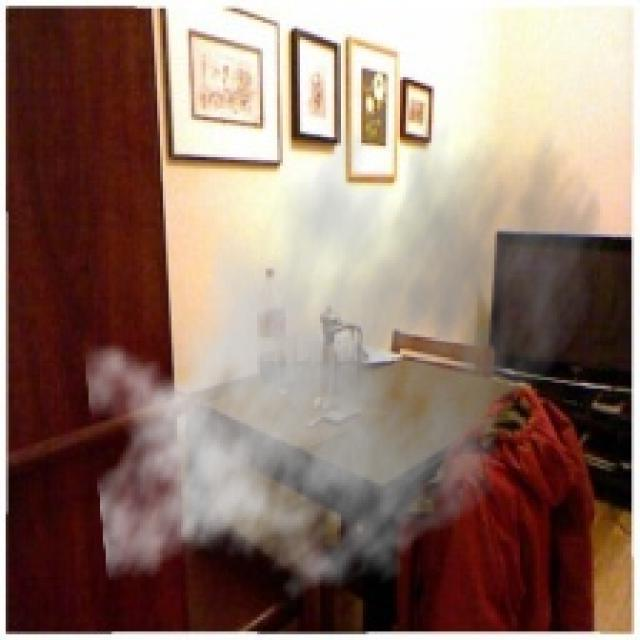Smoke: (82, 80, 608, 617)
